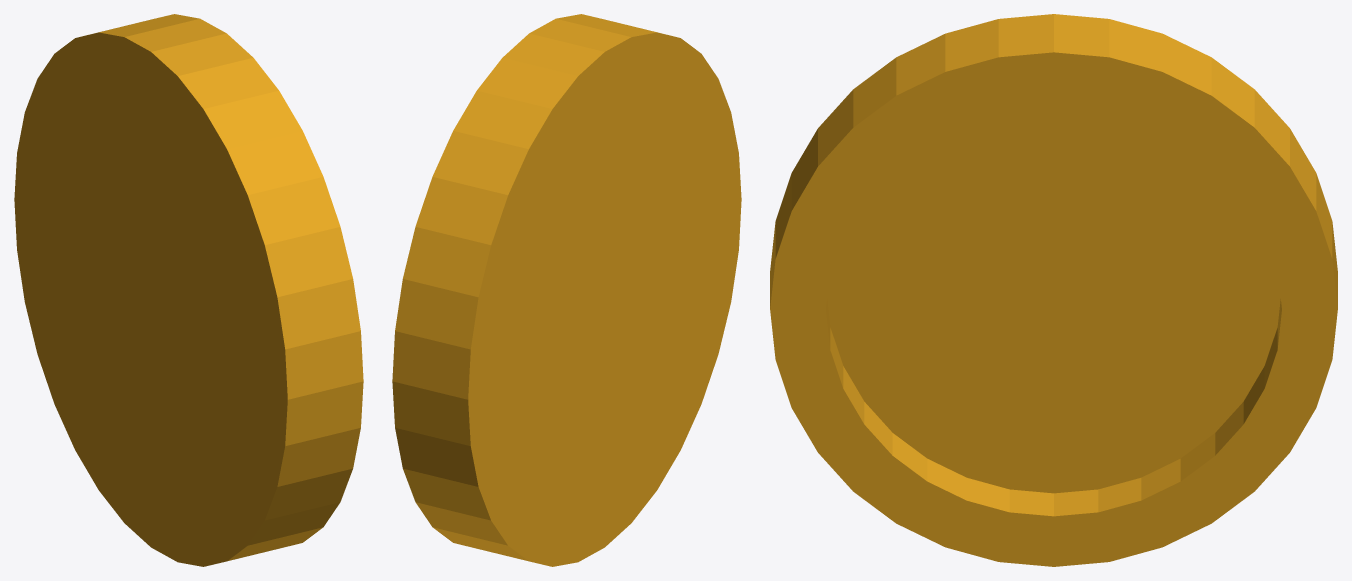
File: Coin.glb
The picture shows the model from 3 angles, left to right: view 1: azimuth 30°, elevation 25°; view 2: azimuth 150°, elevation 25°; view 3: azimuth 270°, elevation 25°; orthographic projection. The views are drawn at different scales.
Parts seen in each view (by area): view 1: Cylinder.001; view 2: Cylinder.001; view 3: Cylinder.001.
Boxes of the visible parts, x1,y1,x2,y2 form: Cylinder.001: (14, 14, 363, 566); Cylinder.001: (392, 14, 741, 566); Cylinder.001: (770, 14, 1337, 566).
Bounding box in the file's own units: 0.3276 × 2.05 × 2.05.
